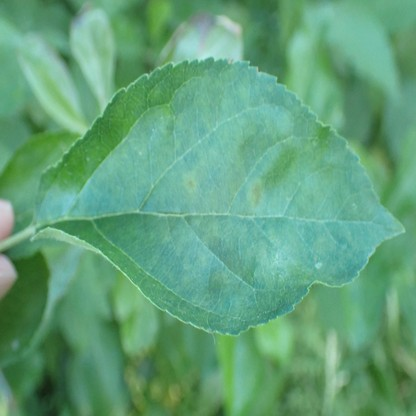powdery_mildew: (272, 240, 289, 269)
scab: (198, 67, 250, 123), (228, 134, 246, 197), (248, 177, 263, 211), (212, 271, 230, 292), (204, 221, 219, 242), (184, 169, 196, 191)
